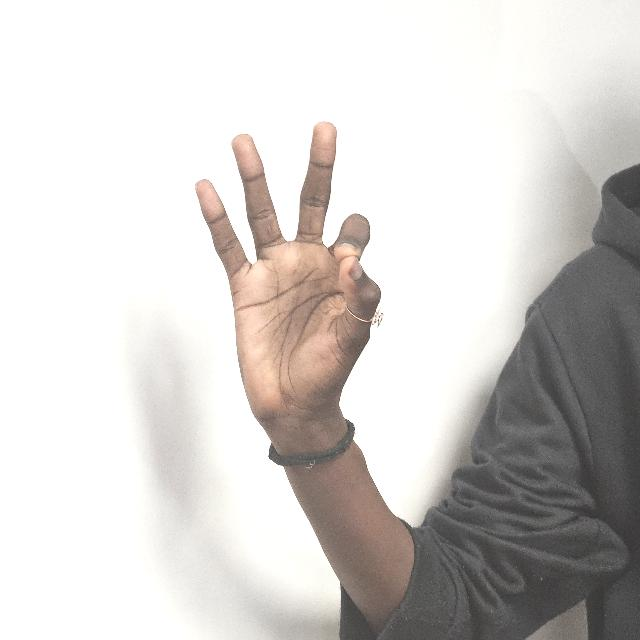Bolinha: (190, 115, 384, 462)
